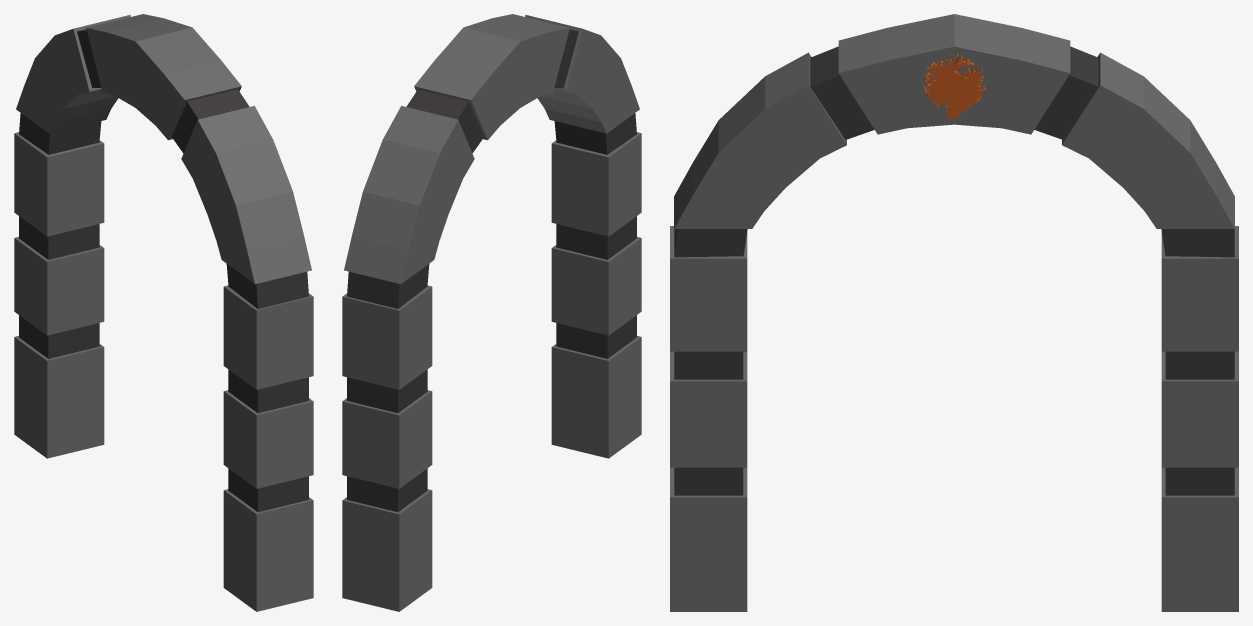
File: TreeDoorFrame.fbx
3 views of the same model, side by side, from view 1: azimuth 30°, elevation 25°; view 2: azimuth 150°, elevation 25°; view 3: azimuth 270°, elevation 25° (orthographic). The views are drawn at different scales.
Visible parts, largest first — view 1: treeframe; view 2: treeframe; view 3: treeframe.
Boxes of the visible parts, <box> form: treeframe: <box>14,14,313,611</box>; treeframe: <box>342,14,641,611</box>; treeframe: <box>670,14,1238,611</box>.
Size of the model in its own units: 0.9878 by 7.56 by 6.89.
